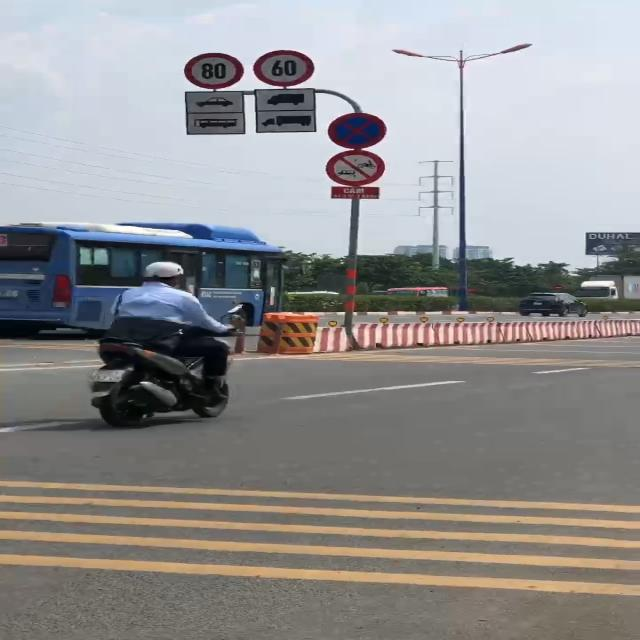Bien bao cam dung xe va do xe: (323, 108, 392, 149)
Bien bao toc do toi da cho phep: (248, 49, 323, 87), (181, 50, 248, 91)
